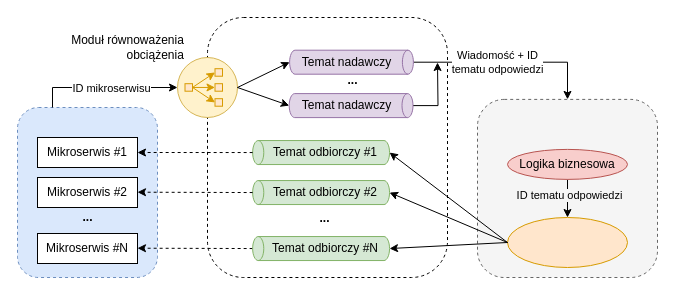
Some shapes in this 675 by 295 pixel diagram are drawn without their labels. The box of each missing label's shape, as (x1, y1, x2, y2) in pixels:
Grupa nadawców: (16, 106, 158, 278)
Infrastruktura Kafki: (206, 16, 448, 278)
Mikroserwis przetwarzający wiadomość: (476, 98, 658, 278)
Trasowanie tematu odbiorczego: (506, 216, 628, 268)
